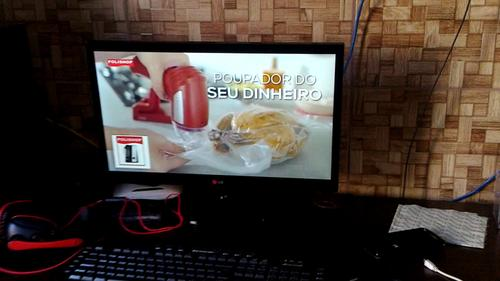Polishop #1: (111, 134, 151, 170)
